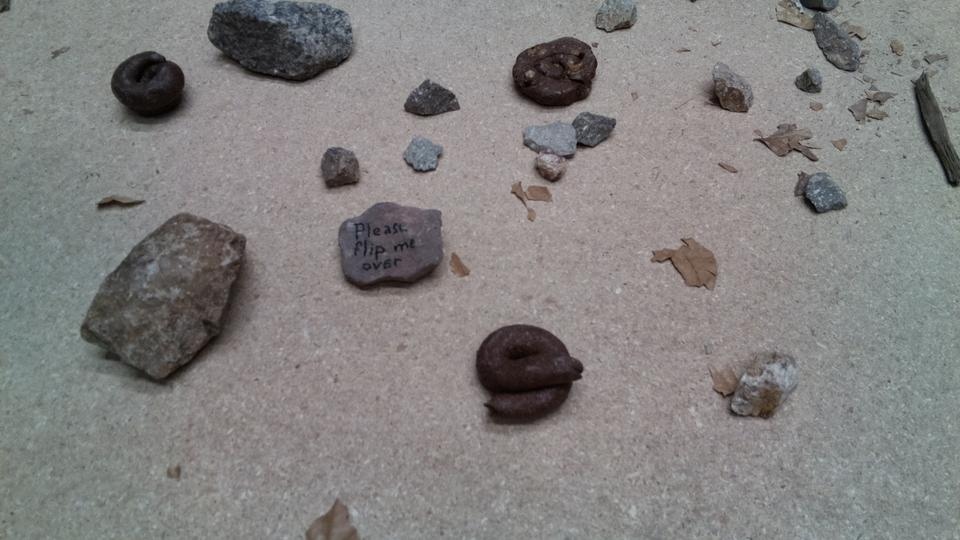poop: (473, 321, 587, 427), (510, 35, 598, 111), (110, 49, 187, 119)
